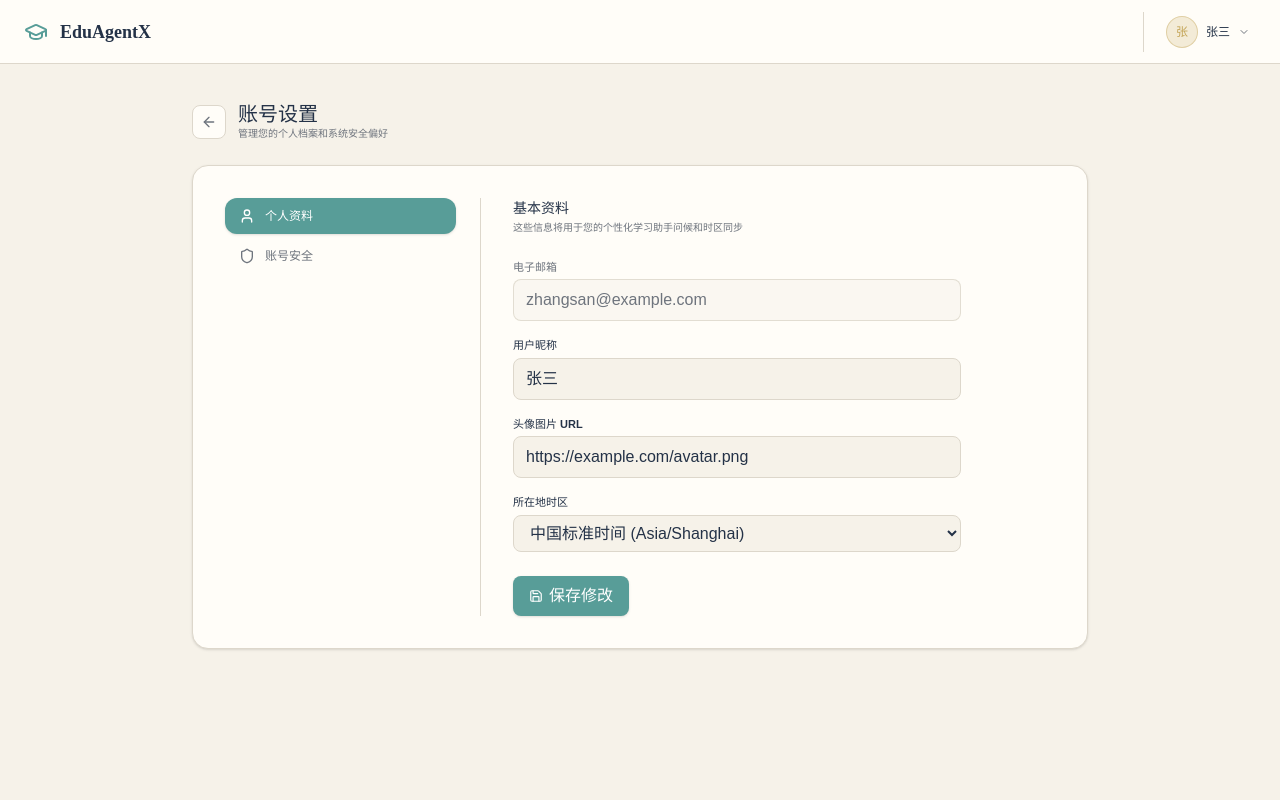
Settings Pages › should render ProfileSettingsPage and submit edits
Check: the field showing "zhangsan@example.com" below "电子邮箱" is shown, box [513,279,961,321]
Check: the field showing "https://example.com/avatar.png" below "头像图片 URL" is shown, box [513,436,961,478]
Trigger input change
Replace the text in the field with placeholder "设置昵称..." below "用户昵称" with "张小三" at (737,378), box [513,358,961,400]
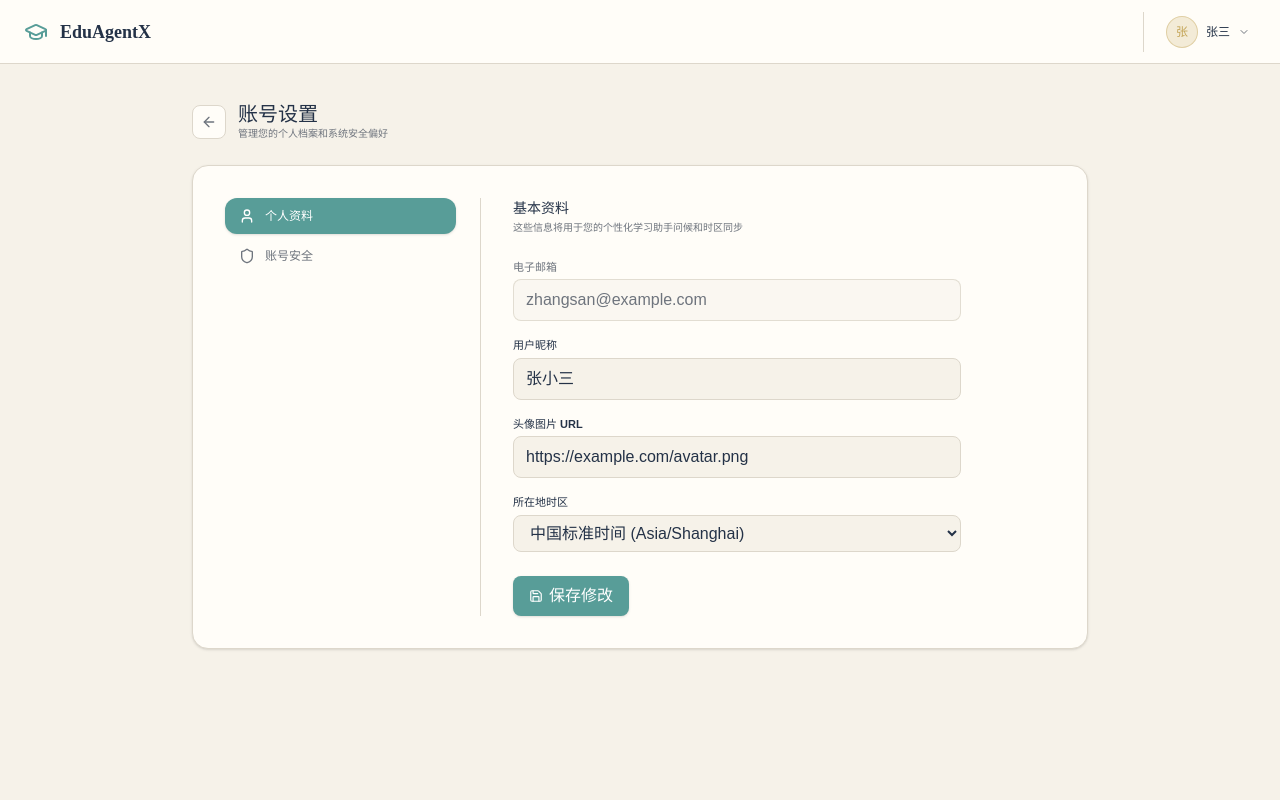
Click the button "保存修改" at (571,596), box [513,576,629,616]
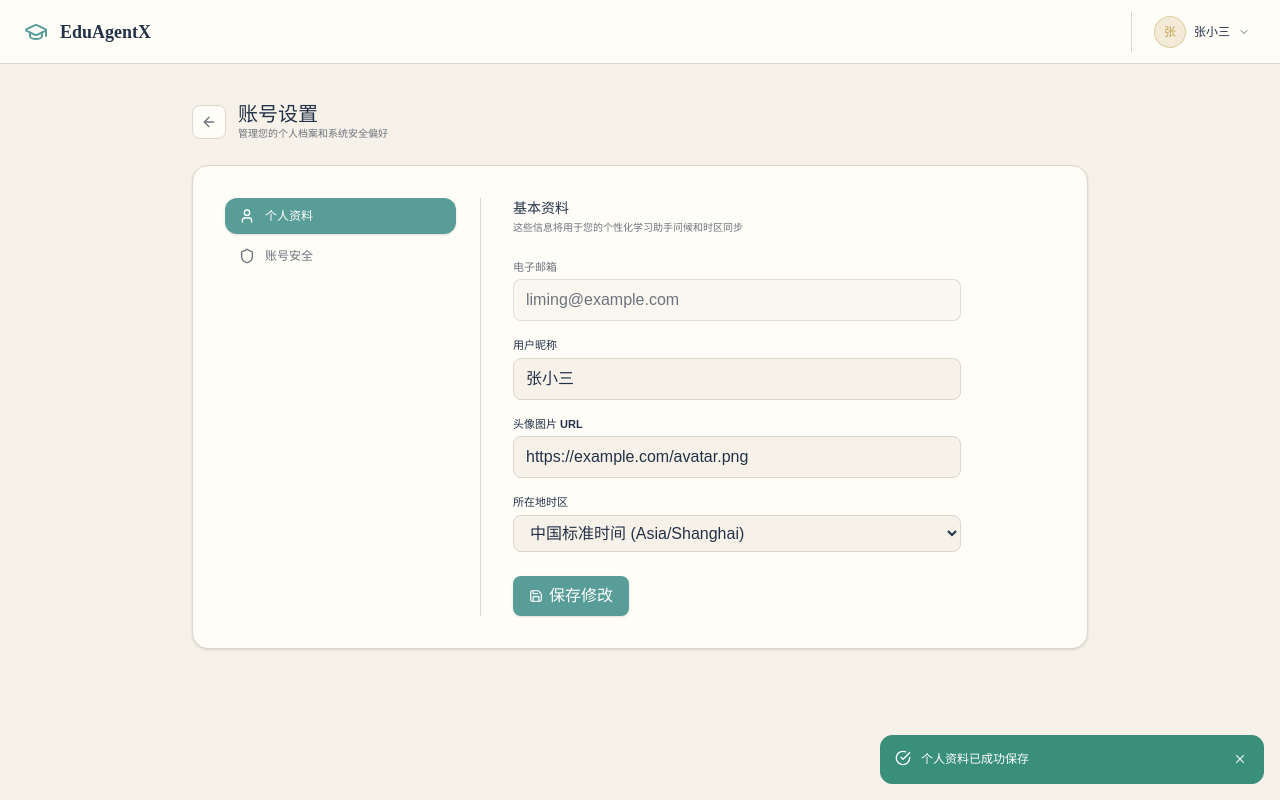
Check: the text "个人资料已成功保存" is shown, box [921,752,1029,766]
